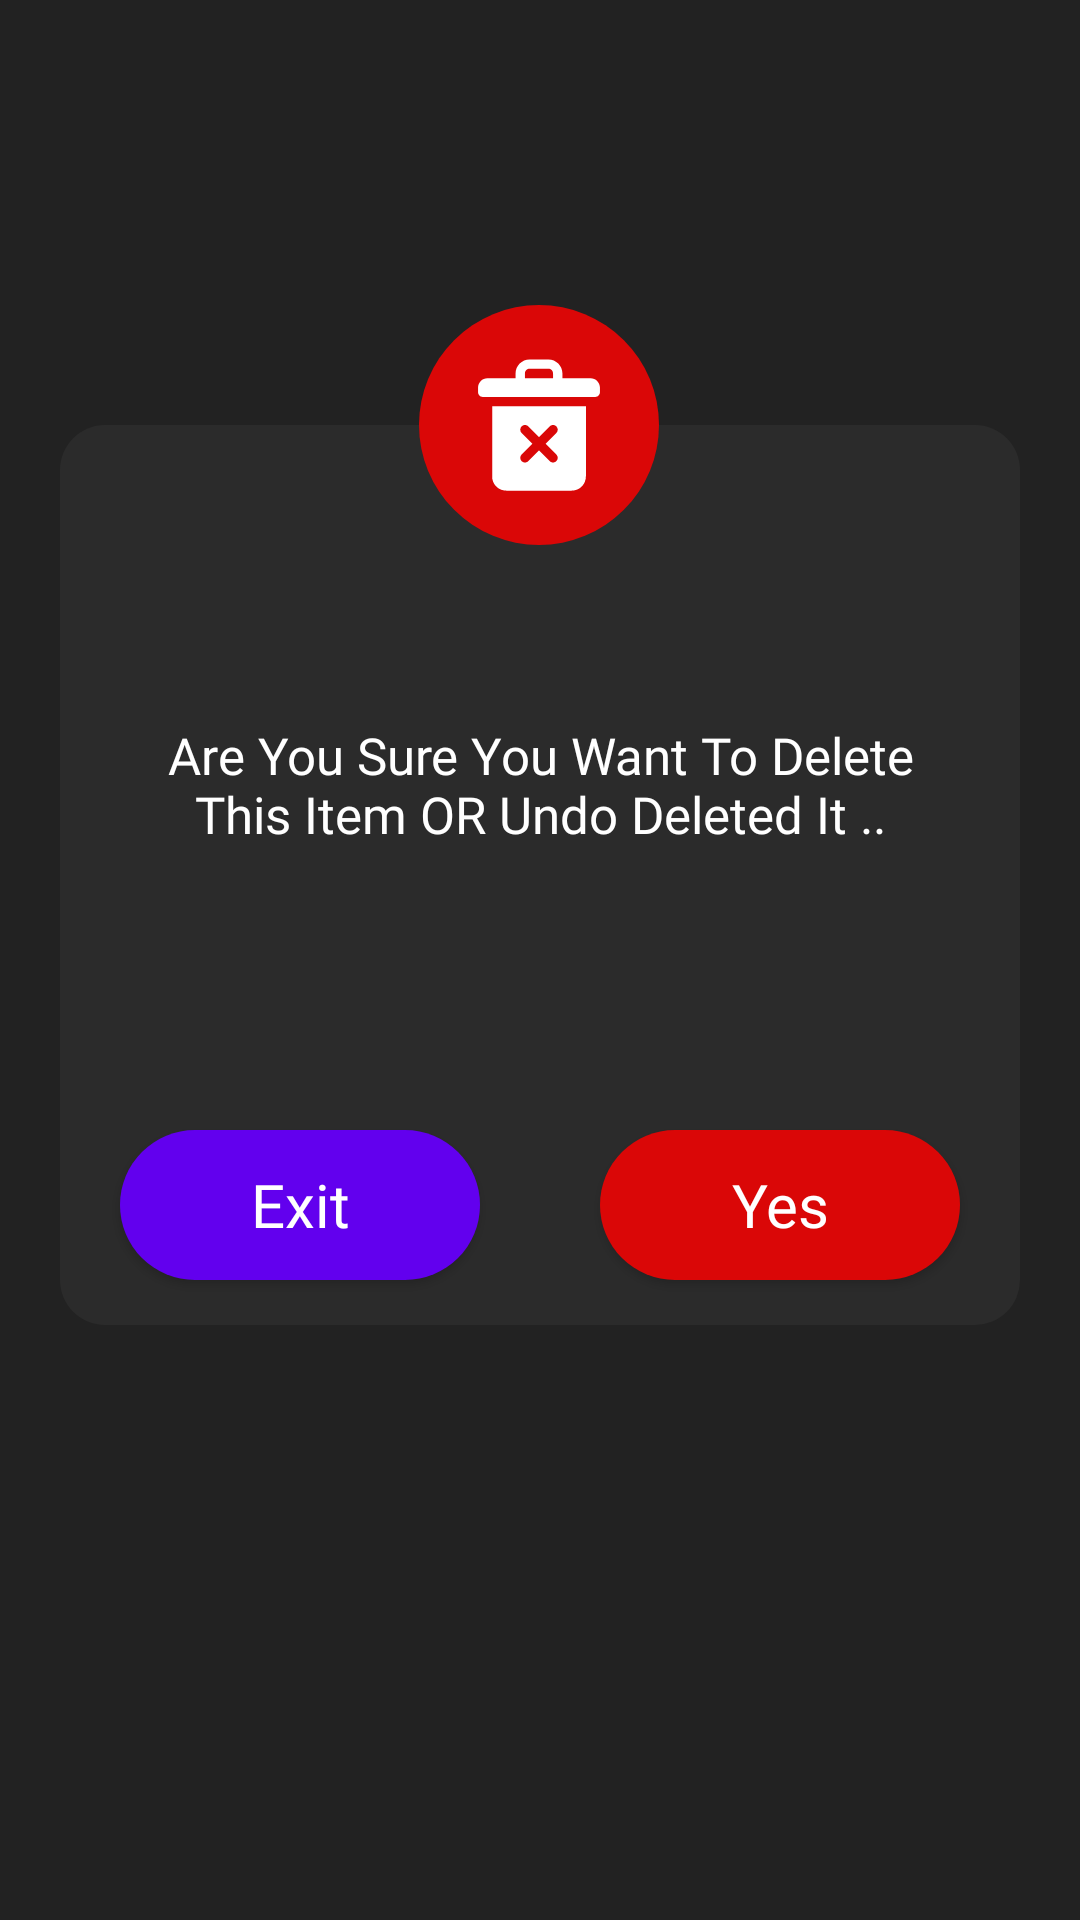

Icon bounding boxes for this 1080×1920 phone screenshot, format (x1, y1, x2, y2):
iconfinder delete: (419, 305, 659, 545)
